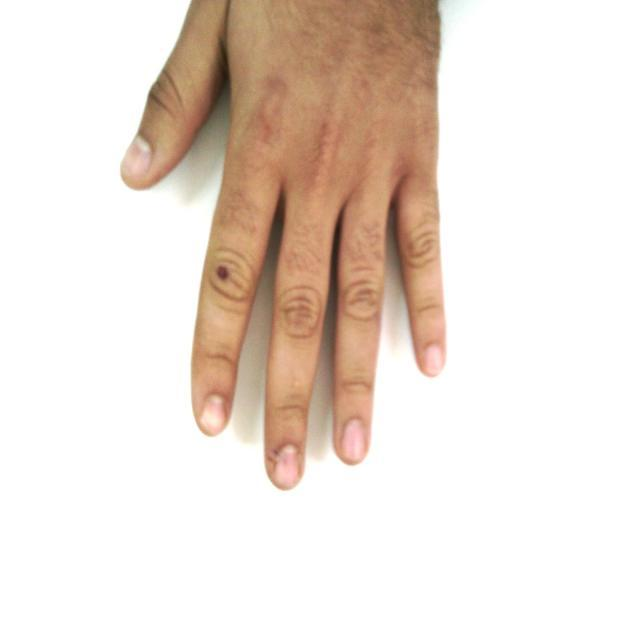Fingernail: (123, 137, 150, 179), (275, 445, 298, 488), (342, 420, 365, 460), (202, 396, 225, 432), (425, 345, 442, 374)
